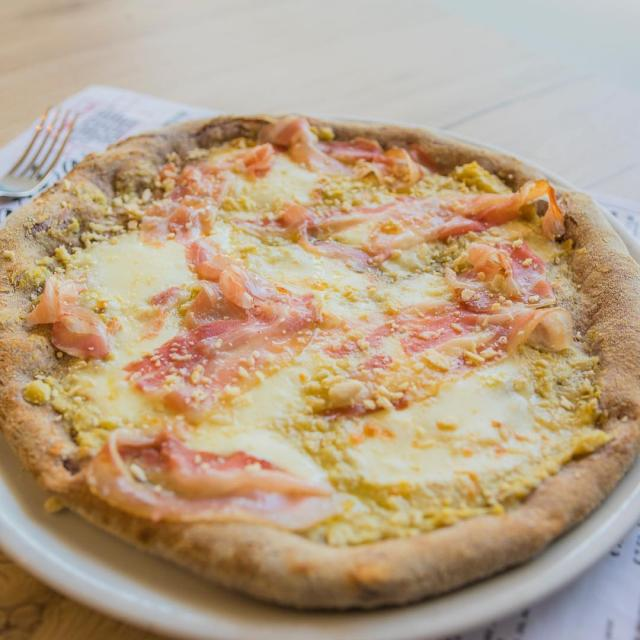pizza: (0, 116, 640, 609)
